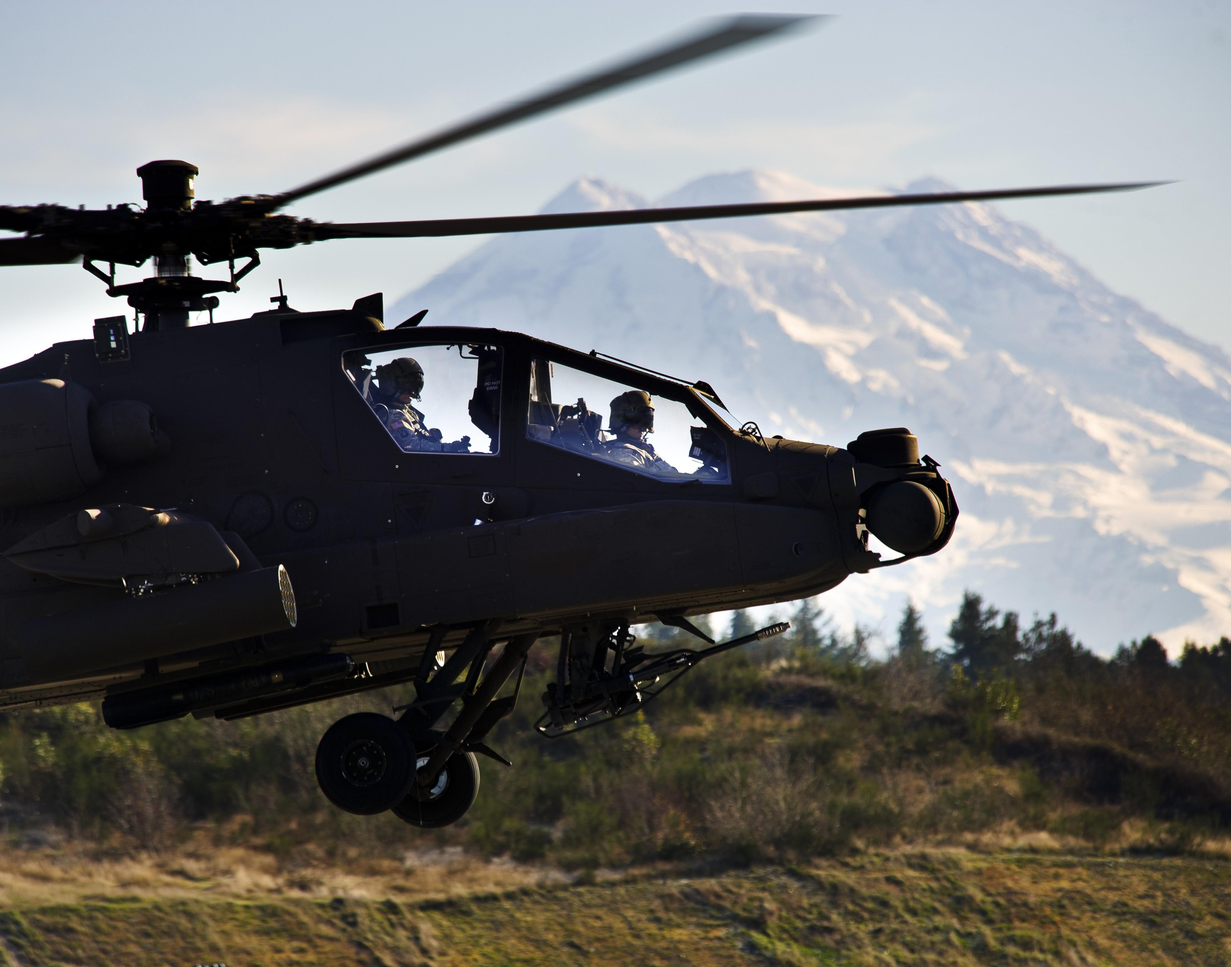aircraft: (0, 300, 969, 833)
